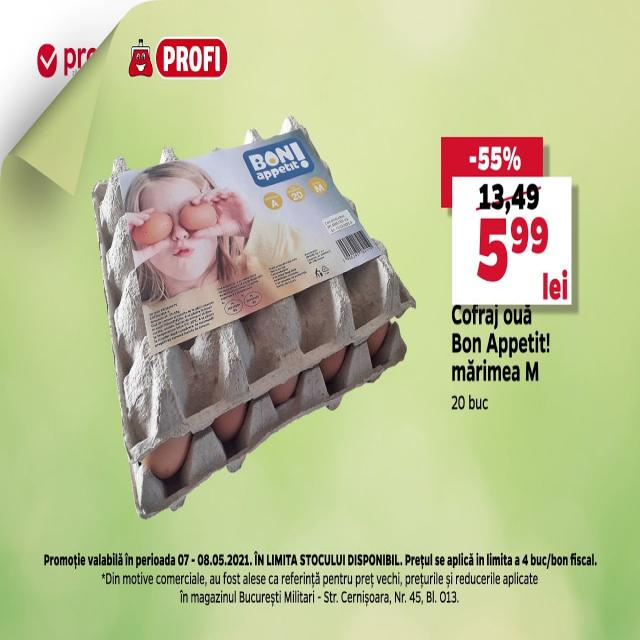eggs: (92, 126, 406, 516)
